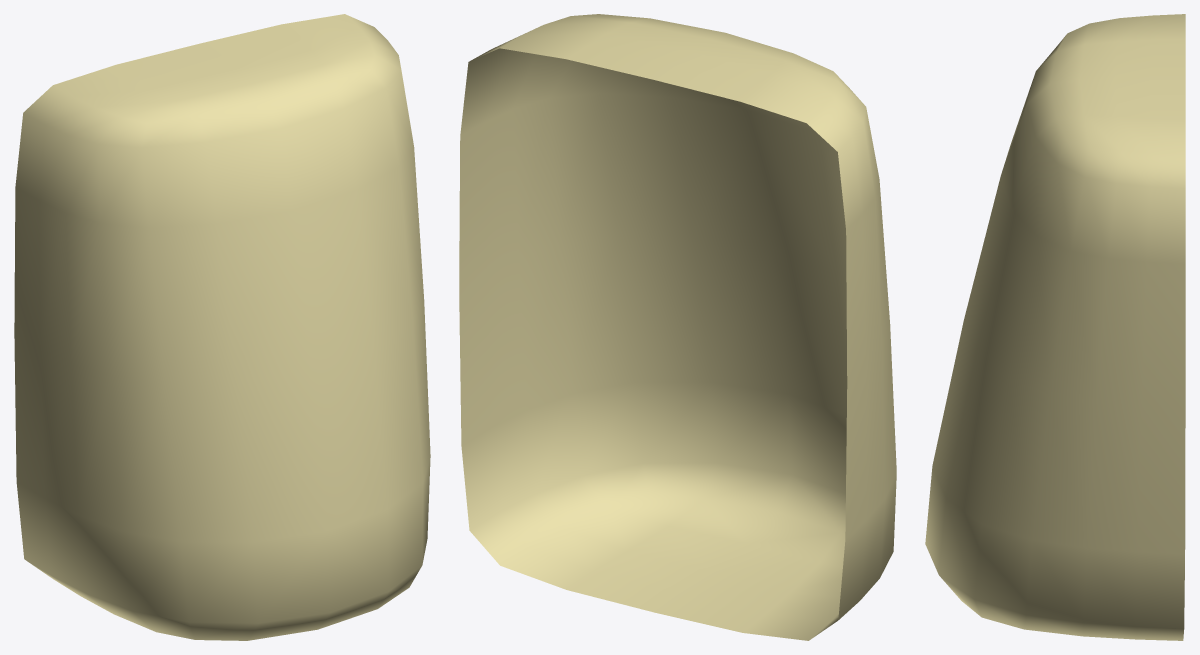
The model's file is nose-2.fbx.
3 views of the same model, side by side, from view 1: azimuth 30°, elevation 25°; view 2: azimuth 150°, elevation 25°; view 3: azimuth 270°, elevation 25° (orthographic). The views are drawn at different scales.
Parts seen in each view (by area): view 1: Cube; view 2: Cube; view 3: Cube.
Boxes of the visible parts, left/top/right/bottom form: Cube: left=14, top=14, right=430, bottom=640; Cube: left=459, top=14, right=896, bottom=640; Cube: left=925, top=14, right=1185, bottom=640.
Size of the model in its own units: 12.91 by 16.97 by 8.
